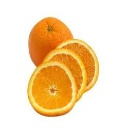orange: (26, 59, 77, 119), (26, 15, 56, 50)
